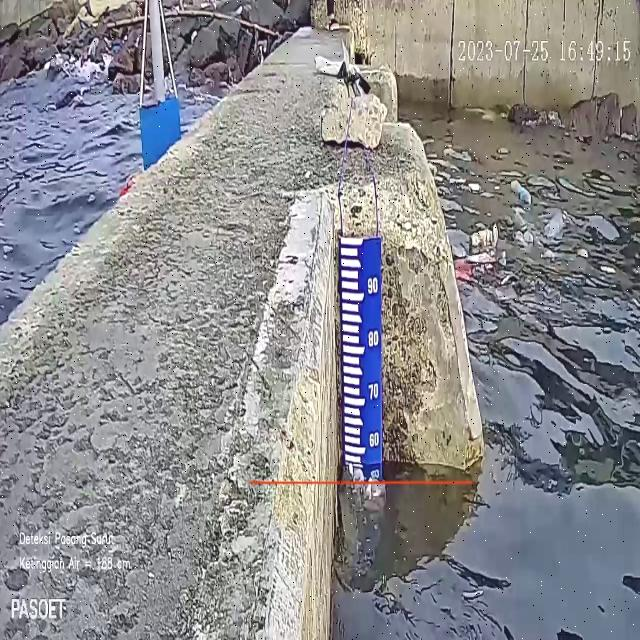60: (369, 432, 379, 448)
70: (368, 382, 379, 400)
80: (368, 331, 379, 349)
90: (368, 277, 378, 293)
staff: (341, 236, 382, 468)
